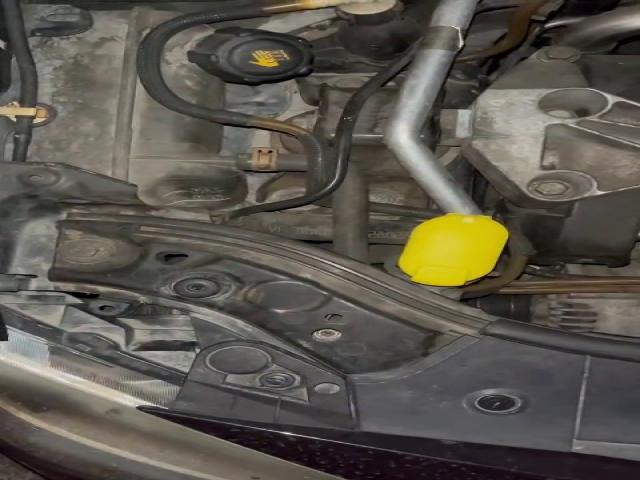antifreeze_tank: (29, 8, 245, 208), (161, 24, 314, 109)
